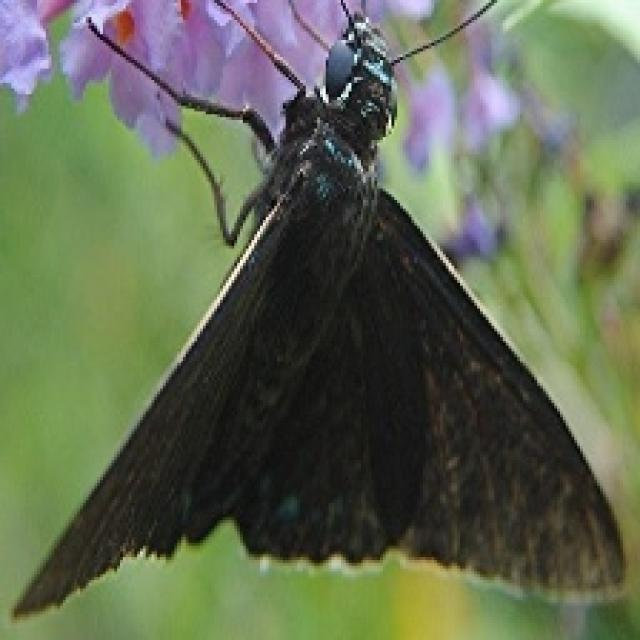butterfly: (9, 0, 628, 620)
